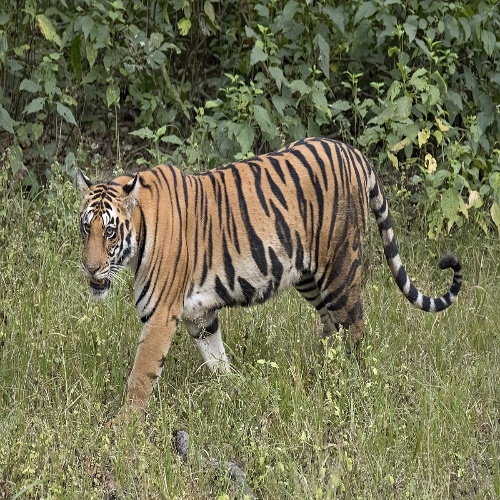tiger: (29, 135, 475, 388)
